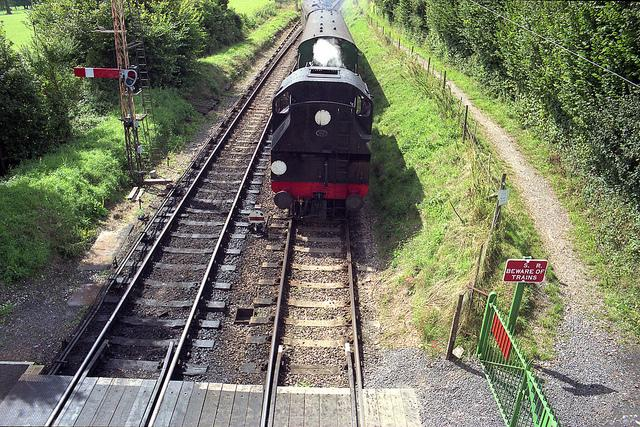Train: (271, 3, 376, 220)
